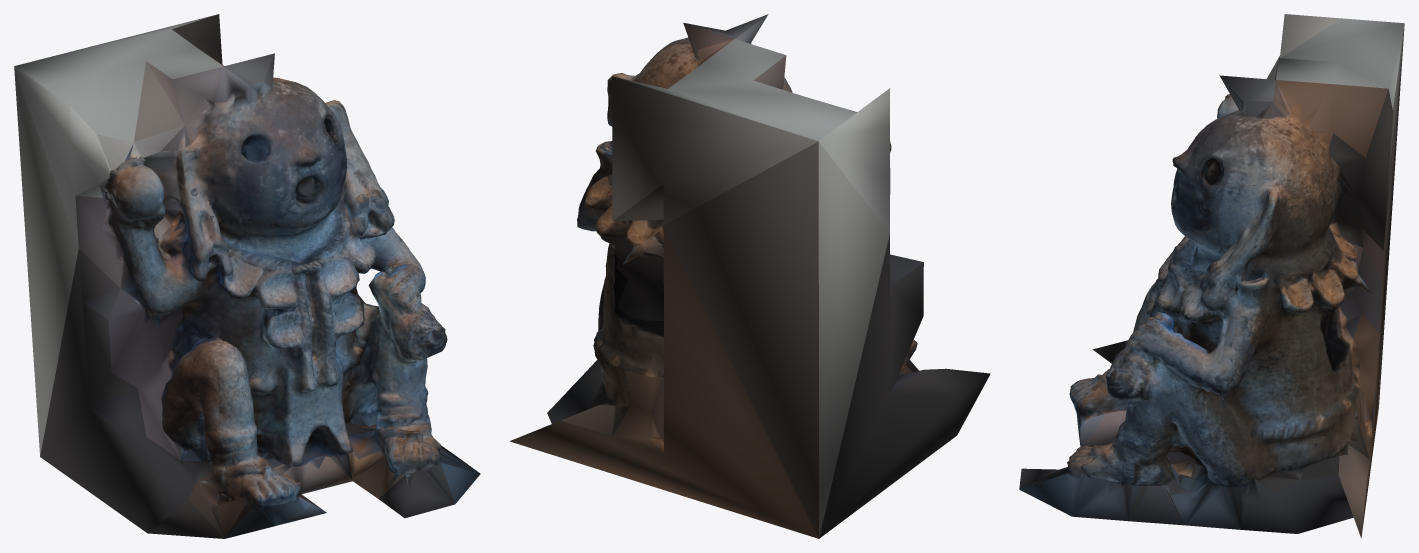
The model's file is xipeTotec.glb.
3 renders of one model, left to right at view 1: azimuth 30°, elevation 25°; view 2: azimuth 150°, elevation 25°; view 3: azimuth 270°, elevation 25°, orthographic. The views are drawn at different scales.
Visible parts, largest first — view 1: FigurillaMask_LOD0; view 2: FigurillaMask_LOD0; view 3: FigurillaMask_LOD0.
Boxes of the visible parts, bbox=[...] form: FigurillaMask_LOD0: bbox=[14, 14, 480, 538]; FigurillaMask_LOD0: bbox=[509, 14, 990, 538]; FigurillaMask_LOD0: bbox=[1019, 14, 1404, 538].
Bounding box in the file's own units: 26.32 × 31.41 × 27.89.
Materials: 1 (1 with a texture image).
